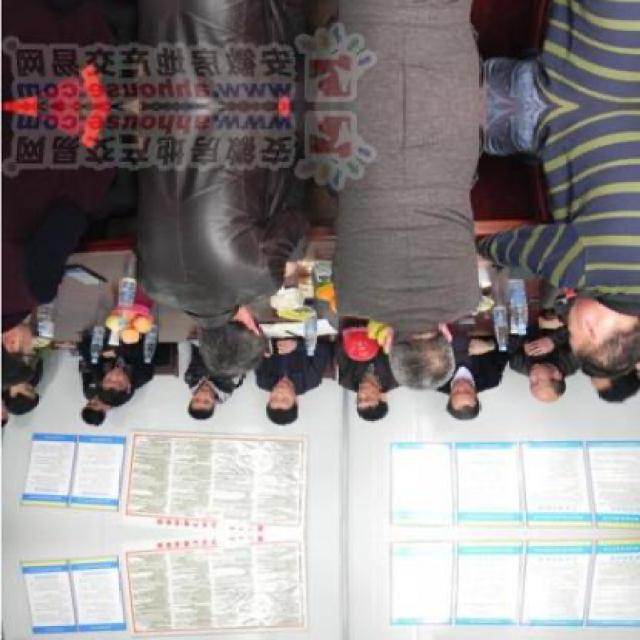sin casco: (186, 283, 280, 397), (362, 306, 470, 391), (562, 278, 640, 385), (508, 343, 604, 425), (258, 379, 336, 433), (446, 356, 507, 424), (99, 356, 162, 402), (354, 375, 397, 439), (70, 362, 130, 393), (194, 381, 220, 441)
